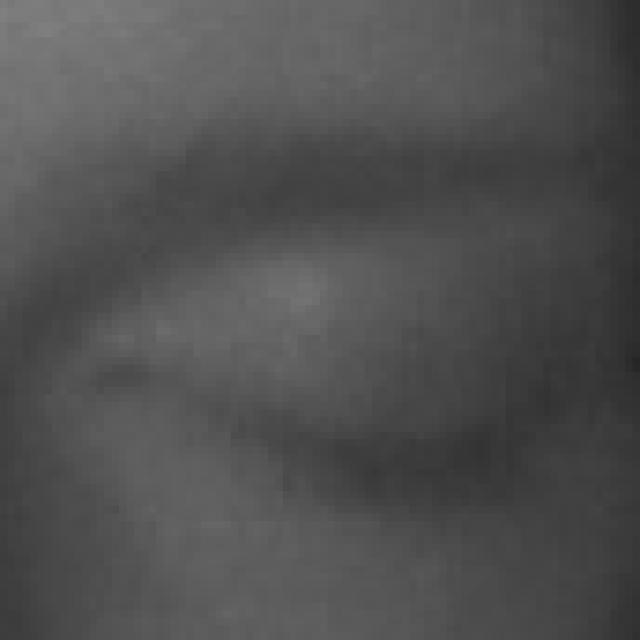Eyeclosed: (171, 231, 507, 640)
